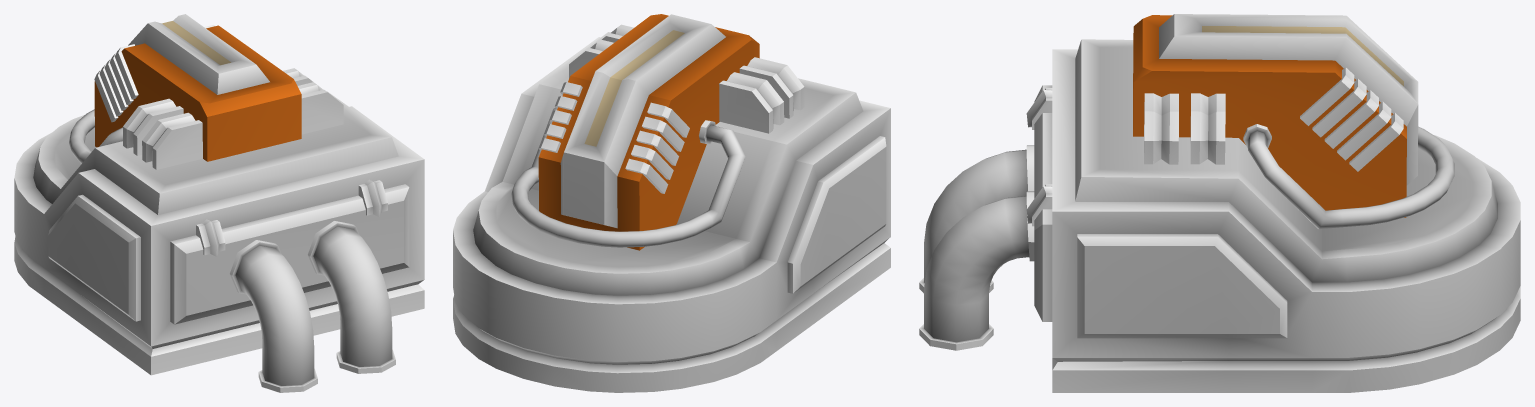
Rendered from deco_generator.FBX.
3 views of the same model, side by side, from view 1: azimuth 30°, elevation 25°; view 2: azimuth 150°, elevation 25°; view 3: azimuth 270°, elevation 25° (orthographic). The views are drawn at different scales.
Parts seen in each view (by area): view 1: deco_generator; view 2: deco_generator; view 3: deco_generator.
Part boxes in pixels (<box>): deco_generator: <box>14,14,424,392</box>; deco_generator: <box>453,14,890,392</box>; deco_generator: <box>919,14,1520,392</box>.
Bounding box in the file's own units: 1.07 × 0.825 × 1.57.
